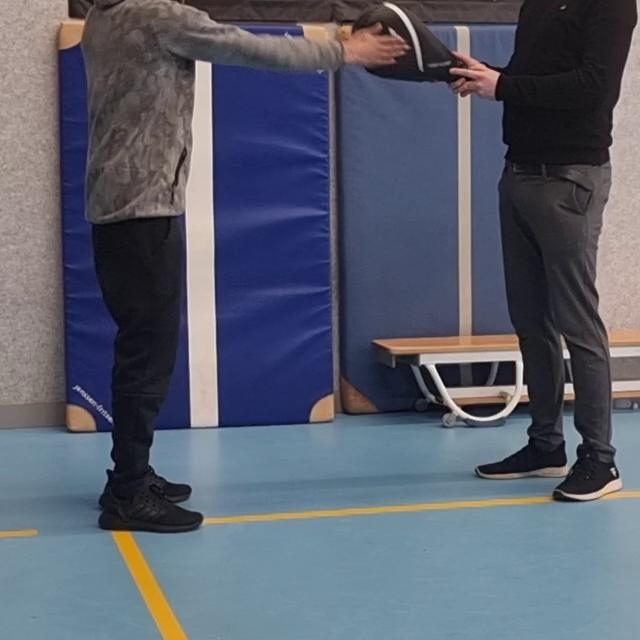paddle: (353, 1, 464, 83)
